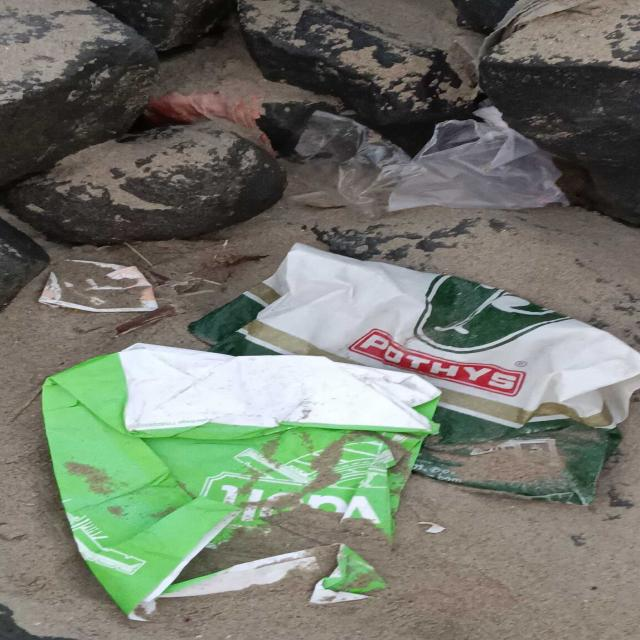giay: (41, 344, 439, 621)
hop_nhua: (39, 260, 157, 312)
nhua: (387, 105, 569, 210), (291, 110, 410, 217)
tui_ni_long: (187, 244, 639, 506)
